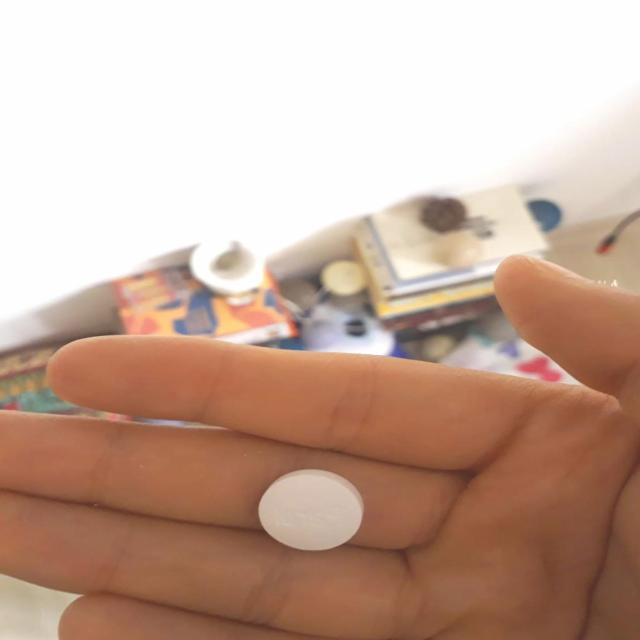pill: (242, 468, 372, 557)
